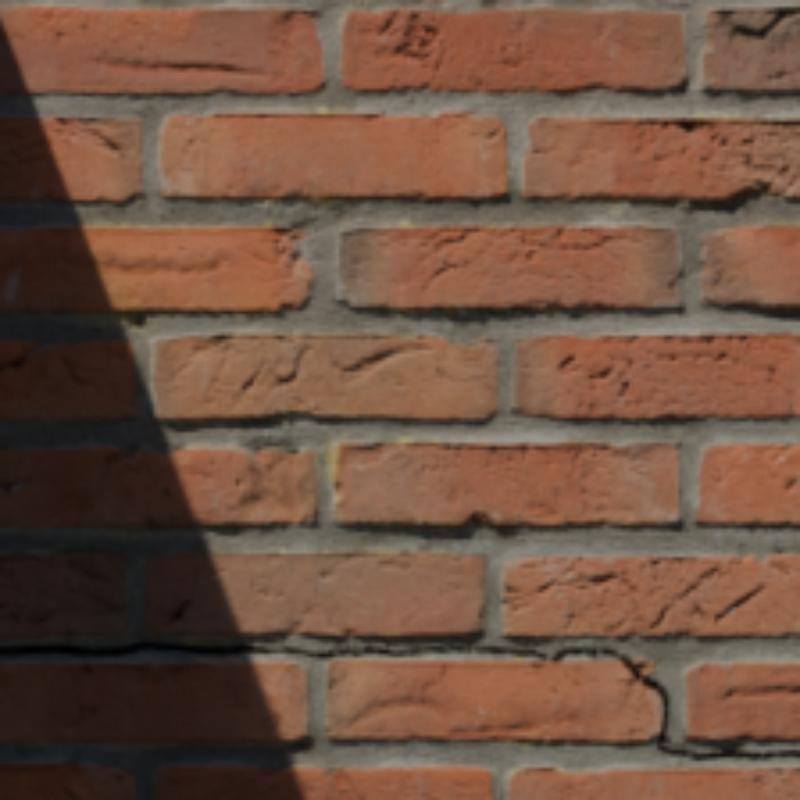pothole: (0, 643, 796, 761)
